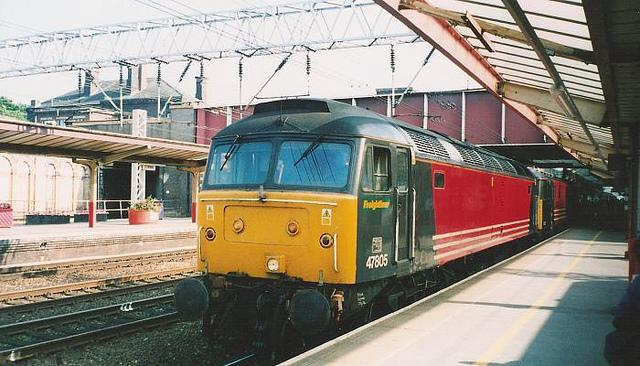Train: (172, 100, 604, 362)
